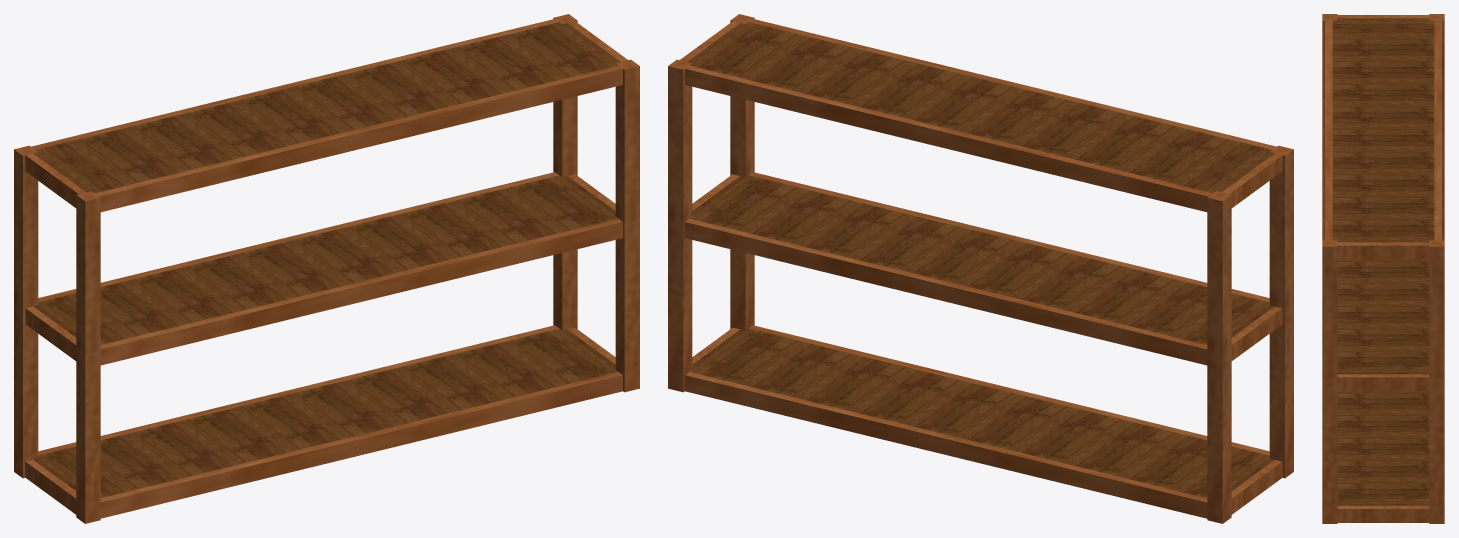
File: shop-shelves.gltf
3 views of the same model, side by side, from view 1: azimuth 30°, elevation 25°; view 2: azimuth 150°, elevation 25°; view 3: azimuth 270°, elevation 25° (orthographic). The views are drawn at different scales.
Visible parts, largest first — view 1: group_15.008, group_15, group_15.004, group_20, group_22, group_21, group_23, group_9, group_27, group_28, group_46, group_30 (+34 smaller); view 2: group_15.011, group_15.003, group_15.007, group_21, group_23, group_20, group_22, group_9, group_27, group_28, group_46, group_30 (+34 smaller); view 3: group_22, group_23, group_25, group_27, group_29, group_30, group_26, group_28, group_31, group_32, group_33, group_5 (+21 smaller).
Boxes of the visible parts, <box> form: group_15.008: <box>95,65,622,211</box>; group_15: <box>100,219,622,365</box>; group_15.004: <box>100,372,622,518</box>; group_20: <box>76,191,100,523</box>; group_22: <box>615,59,639,392</box>; group_21: <box>14,145,38,478</box>; group_23: <box>553,14,577,330</box>; group_9: <box>217,246,329,302</box>; group_27: <box>163,105,275,162</box>; group_28: <box>378,53,490,109</box>; group_46: <box>109,425,221,481</box>; group_30: <box>55,132,167,188</box>; group_15.011: <box>685,65,1212,211</box>; group_15.003: <box>685,219,1207,365</box>; group_15.007: <box>685,372,1207,518</box>; group_21: <box>1207,191,1231,523</box>; group_23: <box>668,59,692,392</box>; group_20: <box>1269,145,1293,478</box>; group_22: <box>730,14,754,330</box>; group_9: <box>978,246,1090,302</box>; group_27: <box>1032,105,1144,162</box>; group_28: <box>817,53,929,109</box>; group_46: <box>1086,425,1198,481</box>; group_30: <box>1140,132,1252,188</box>; group_22: <box>1322,240,1337,523</box>; group_23: <box>1429,240,1444,523</box>; group_25: <box>1332,141,1434,164</box>; group_27: <box>1332,73,1434,96</box>; group_29: <box>1332,209,1434,232</box>; group_30: <box>1332,28,1434,51</box>; group_26: <box>1332,119,1434,141</box>; group_28: <box>1332,164,1434,186</box>; group_31: <box>1332,96,1434,118</box>; group_32: <box>1332,51,1434,73</box>; group_33: <box>1332,187,1434,209</box>; group_5: <box>1337,318,1429,341</box>.
Bounding box in the file's own units: 1.37 × 0.762 × 0.3048.
Materials: 2 (2 with a texture image).
